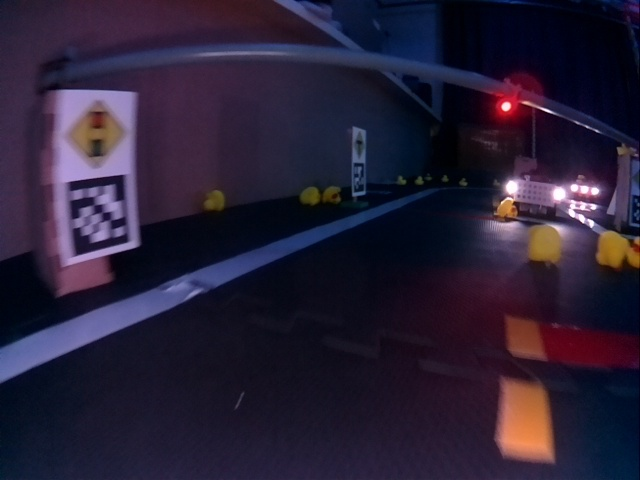Duckie: (527, 226, 561, 263), (597, 232, 629, 268), (498, 198, 518, 218), (204, 190, 224, 210), (300, 186, 320, 204), (323, 186, 342, 203), (397, 176, 405, 186)
Duckiebot: (506, 172, 558, 212), (570, 180, 601, 201)
Intersection sign: (353, 130, 366, 160)
QR code: (60, 173, 131, 256), (353, 164, 366, 193)
Signal sign: (62, 95, 128, 170)
Traffic light: (497, 97, 515, 116)
